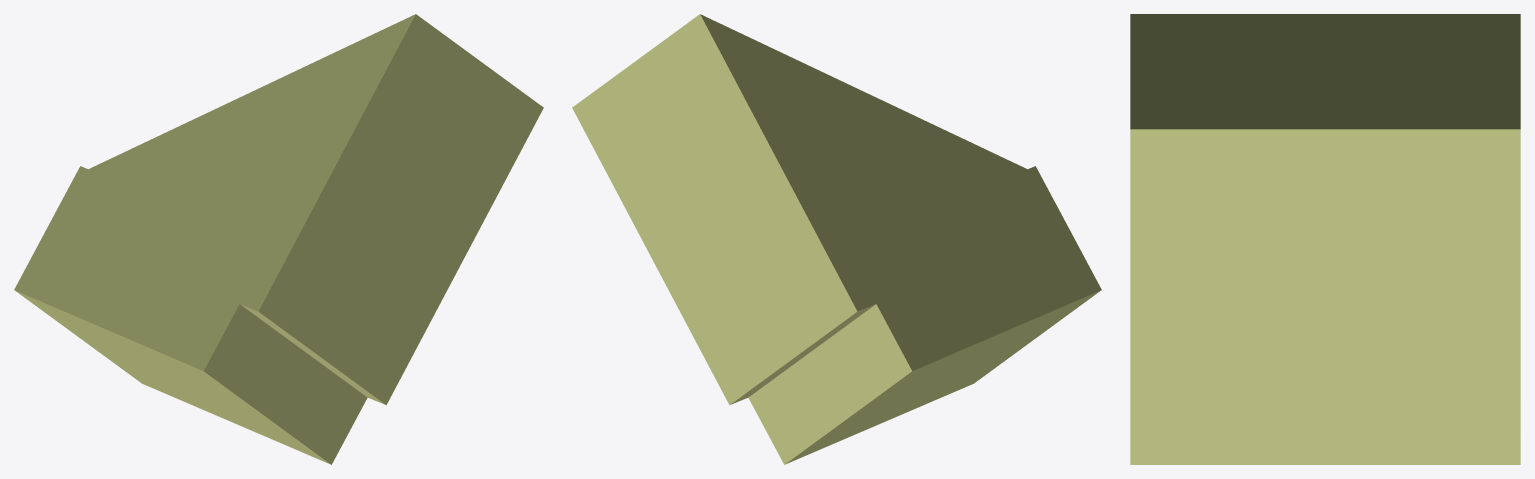
The picture shows the model from 3 angles, left to right: view 1: azimuth 30°, elevation 25°; view 2: azimuth 150°, elevation 25°; view 3: azimuth 270°, elevation 25°; orthographic projection. The views are drawn at different scales.
Parts seen in each view (by area): view 1: 0_1_0_0_0_1_0_3_1; view 2: 0_1_0_0_0_1_0_3_1; view 3: 0_1_0_0_0_1_0_3_1.
Part boxes in pixels (x1,y1,x2,y2): 0_1_0_0_0_1_0_3_1: [14, 14, 543, 464]; 0_1_0_0_0_1_0_3_1: [572, 14, 1101, 464]; 0_1_0_0_0_1_0_3_1: [1130, 14, 1520, 464].
Size of the model in its own units: 10.88 by 7.9 by 6.
